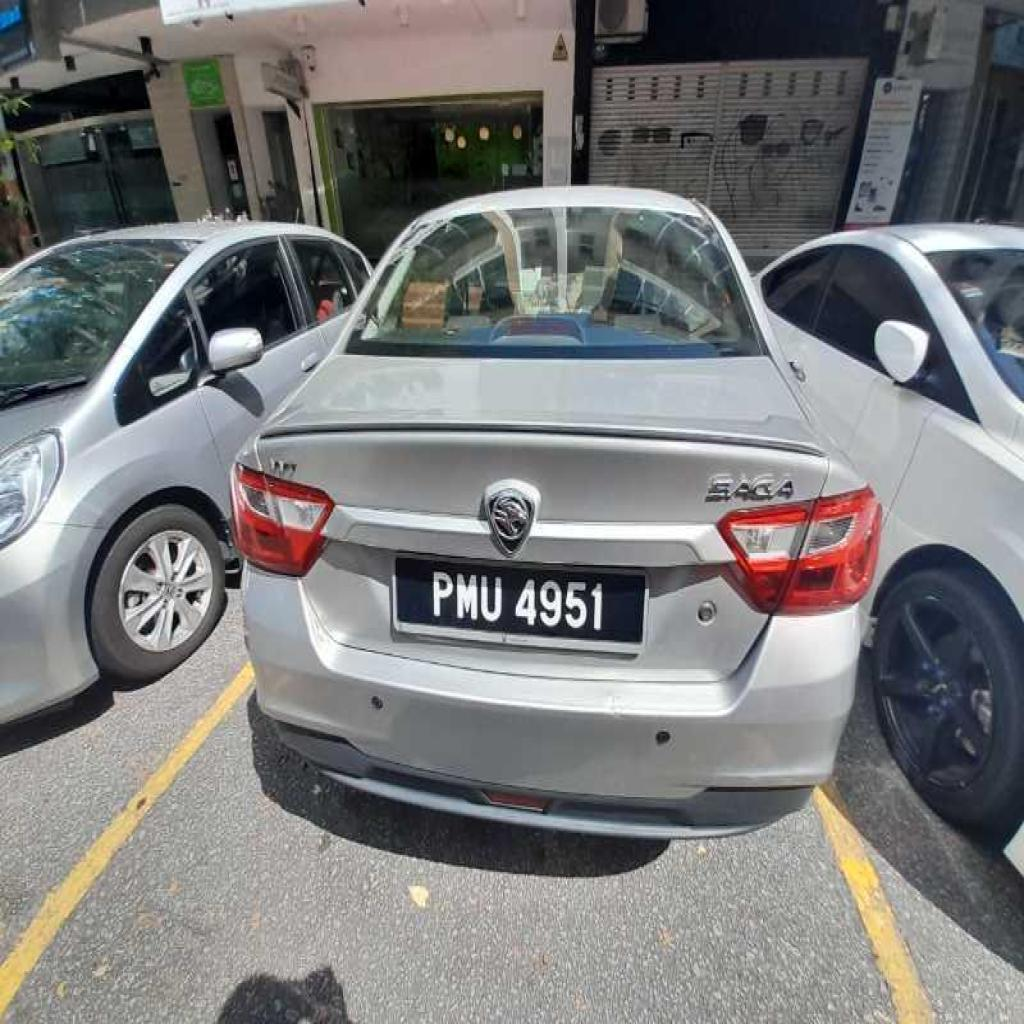car: (234, 186, 878, 836)
car plate: (393, 555, 644, 642)
